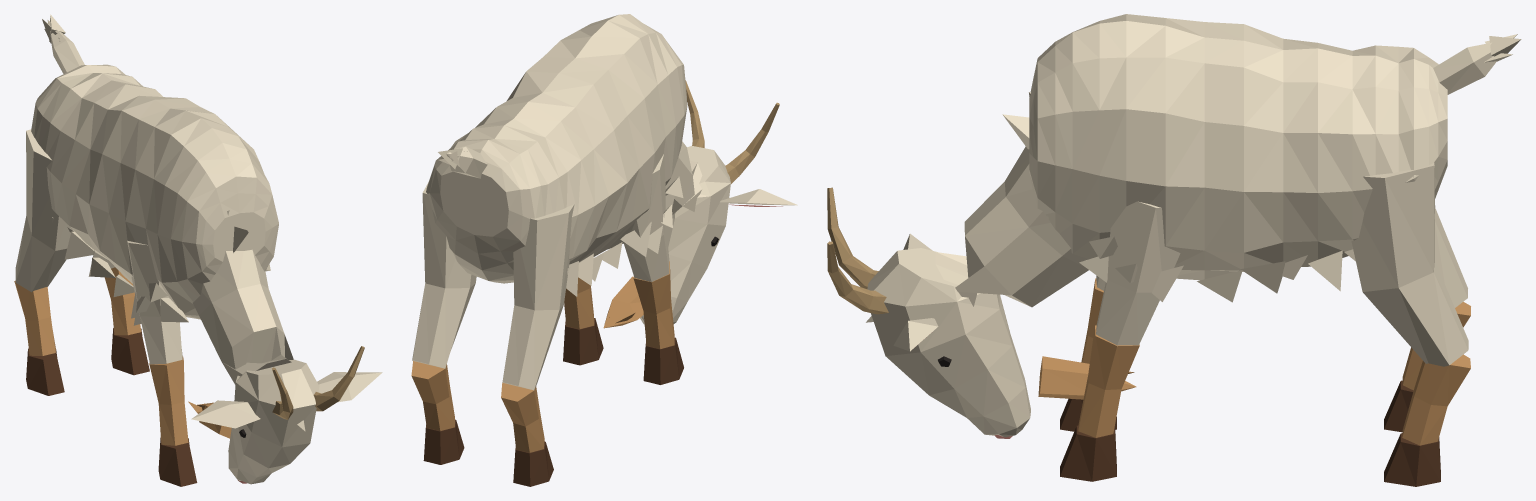
Rendered from feeding.glb.
3 views of the same model, side by side, from view 1: azimuth 30°, elevation 25°; view 2: azimuth 150°, elevation 25°; view 3: azimuth 270°, elevation 25° (orthographic). The views are drawn at different scales.
Parts seen in each view (by area): view 1: body, neck, head, leg_hind_R_upper, leg_front_R_upper, leg_front_R_lower, leg_hind_R_lower, leg_front_R_hoof, leg_hind_R_hoof, leg_hind_L_hoof, ear_R, leg_hind_L_lower (+4 smaller); view 2: body, leg_hind_R_upper, head, leg_hind_L_upper, leg_front_R_upper, leg_front_R_lower, leg_hind_L_lower, leg_hind_R_lower, leg_front_L_hoof, leg_front_R_hoof, neck, leg_hind_R_hoof (+7 smaller); view 3: body, head, leg_hind_L_upper, neck, leg_front_L_upper, leg_front_L_lower, leg_hind_L_lower, tail, leg_front_L_hoof, leg_hind_L_hoof, beard, leg_hind_R_upper (+5 smaller).
Part boxes in pixels (x1,y1,x2,y2): body: [31, 64, 278, 325]; neck: [193, 226, 293, 384]; head: [228, 359, 319, 484]; leg_hind_R_upper: [15, 129, 72, 292]; leg_front_R_upper: [127, 240, 182, 364]; leg_front_R_lower: [149, 356, 188, 445]; leg_hind_R_lower: [14, 280, 55, 355]; leg_front_R_hoof: [158, 437, 197, 486]; leg_hind_R_hoof: [26, 348, 64, 395]; leg_hind_L_hoof: [111, 328, 149, 375]; ear_R: [191, 400, 260, 428]; leg_hind_L_lower: [104, 267, 141, 335]; body: [426, 14, 687, 296]; leg_hind_R_upper: [502, 204, 574, 390]; head: [640, 146, 730, 324]; leg_hind_L_upper: [412, 182, 476, 368]; leg_front_R_upper: [624, 154, 669, 281]; leg_front_R_lower: [633, 261, 674, 349]; leg_hind_L_lower: [411, 361, 454, 430]; leg_hind_R_lower: [501, 382, 544, 452]; leg_front_L_hoof: [563, 318, 603, 365]; leg_front_R_hoof: [643, 337, 683, 384]; neck: [665, 141, 702, 214]; leg_hind_R_hoof: [513, 441, 553, 486]; body: [1029, 14, 1447, 302]; head: [866, 248, 1030, 437]; leg_hind_L_upper: [1351, 163, 1468, 366]; neck: [935, 114, 1088, 307]; leg_front_L_upper: [1096, 201, 1180, 345]; leg_front_L_lower: [1078, 325, 1139, 437]; leg_hind_L_lower: [1402, 354, 1470, 445]; tail: [1433, 34, 1521, 94]; leg_front_L_hoof: [1060, 425, 1116, 481]; leg_hind_L_hoof: [1384, 433, 1440, 486]; beard: [1038, 356, 1136, 399]; leg_hind_R_upper: [1434, 200, 1467, 307].
Bounding box in the file's own units: 0.45 × 0.7634 × 1.12.
